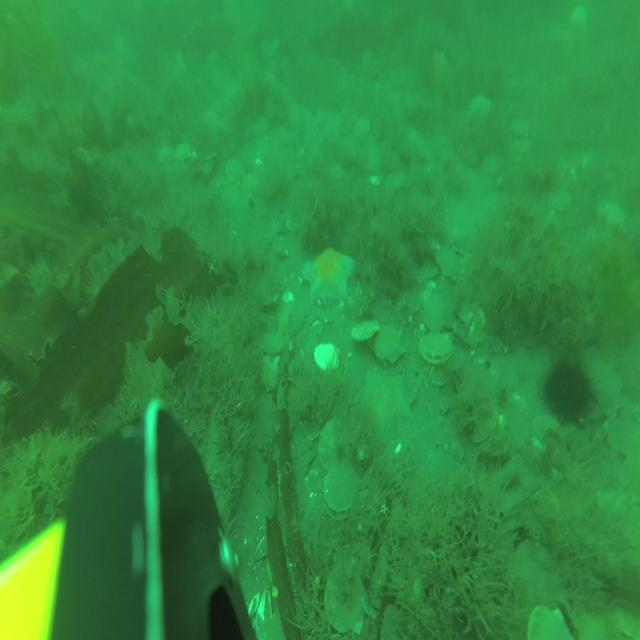echinus: (535, 340, 598, 430)
scallop: (323, 561, 365, 636), (320, 465, 360, 515), (526, 601, 572, 640), (318, 416, 350, 471), (607, 413, 640, 464), (373, 322, 405, 367), (418, 328, 453, 367), (423, 290, 455, 332), (529, 410, 561, 450), (435, 243, 465, 282), (277, 302, 306, 339), (312, 339, 342, 374), (260, 350, 282, 396), (545, 182, 574, 216), (350, 318, 382, 346), (224, 155, 247, 190), (262, 327, 288, 356), (509, 114, 533, 141), (353, 111, 372, 142), (173, 138, 193, 164)
starfish: (362, 364, 418, 444), (301, 245, 358, 306)
